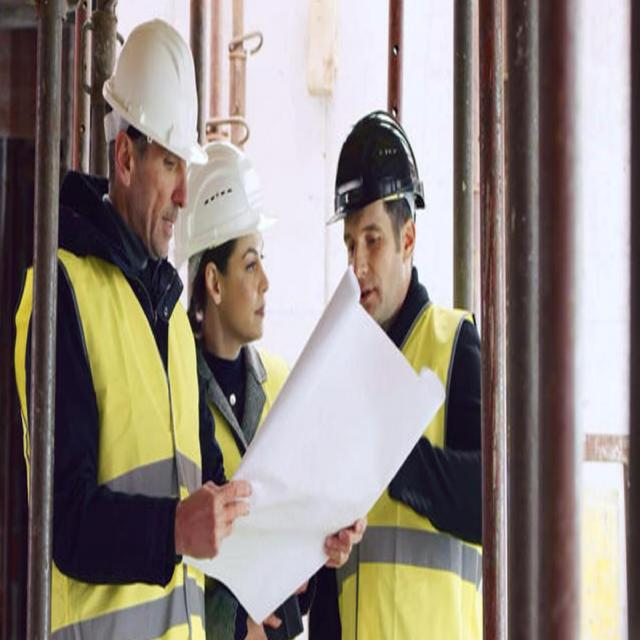Reflective-Jacket: (7, 237, 206, 639), (329, 296, 490, 637), (191, 329, 302, 636)
Safety-Helmet: (100, 15, 212, 178), (320, 98, 432, 235), (182, 128, 276, 269)
